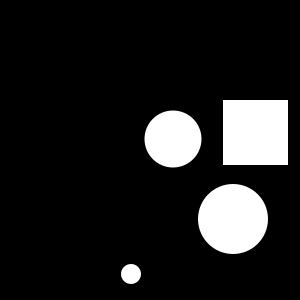circle: (223, 100, 288, 165)
rectangle: (198, 184, 268, 254), (144, 110, 202, 168), (121, 264, 141, 284)
